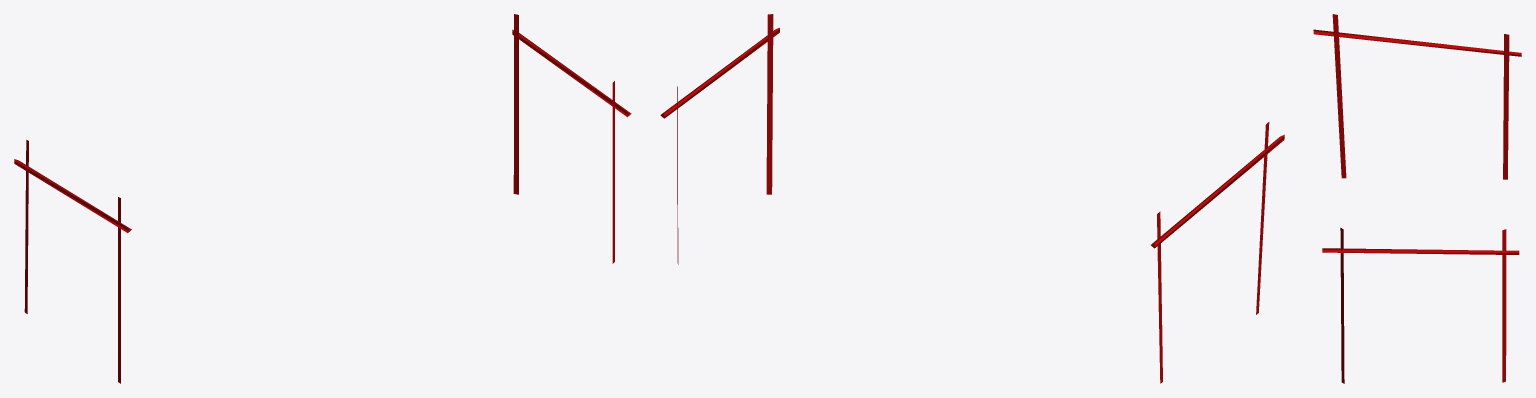
The model's file is canopy_3.glb.
3 renders of one model, left to right at view 1: azimuth 30°, elevation 25°; view 2: azimuth 150°, elevation 25°; view 3: azimuth 270°, elevation 25°, orthographic. The views are drawn at different scales.
Parts seen in each view (by area): view 1: MODEL_s_bazaar_lod0; view 2: MODEL_s_bazaar_lod0; view 3: MODEL_s_bazaar_lod0.
Part boxes in pixels (bbox=[...]): MODEL_s_bazaar_lod0: bbox=[14, 14, 631, 383]; MODEL_s_bazaar_lod0: bbox=[660, 14, 1284, 383]; MODEL_s_bazaar_lod0: bbox=[1313, 14, 1521, 383].
Size of the model in its own units: 3.12 by 1.12 by 1.3.
